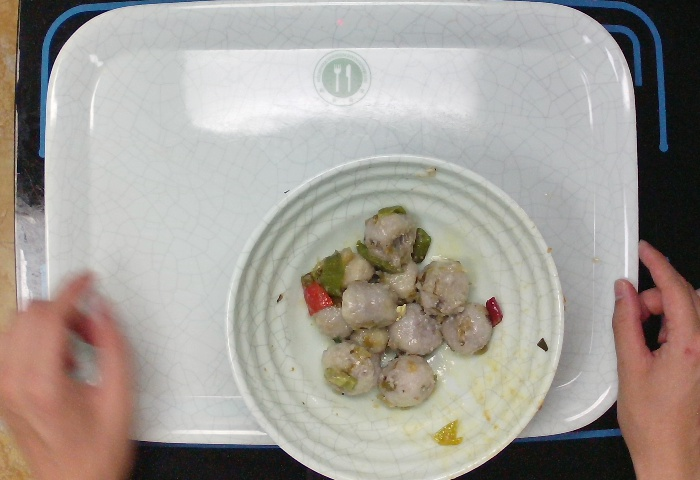JYsf-Da_Tang_Wan: (221, 152, 570, 480)
